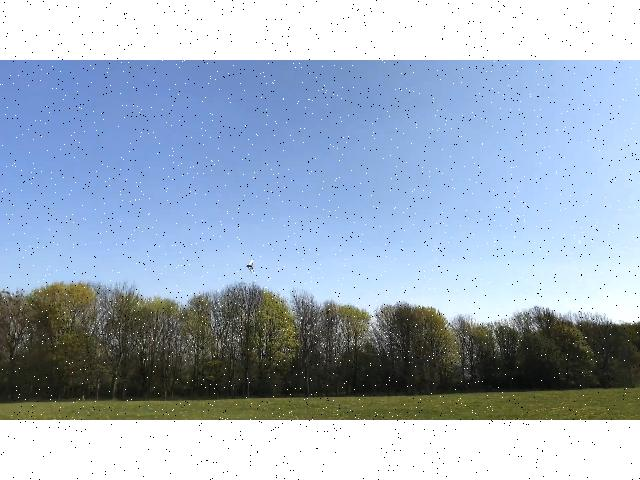Anti-Drone: (240, 242, 272, 276)
